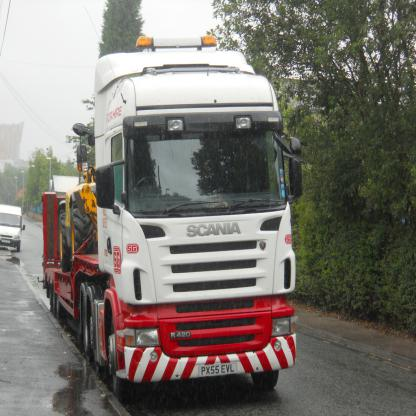Car: (0, 203, 27, 254)
Truck: (48, 28, 305, 399)
